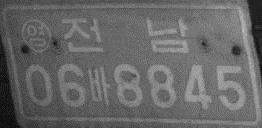0: (24, 64, 54, 108)
4: (182, 63, 212, 110)
5: (215, 64, 247, 111)
6: (57, 63, 86, 107)
8: (112, 62, 143, 108), (146, 63, 177, 109)
바: (87, 66, 110, 106)
영: (20, 17, 52, 53)
전남_D: (61, 16, 190, 54)
